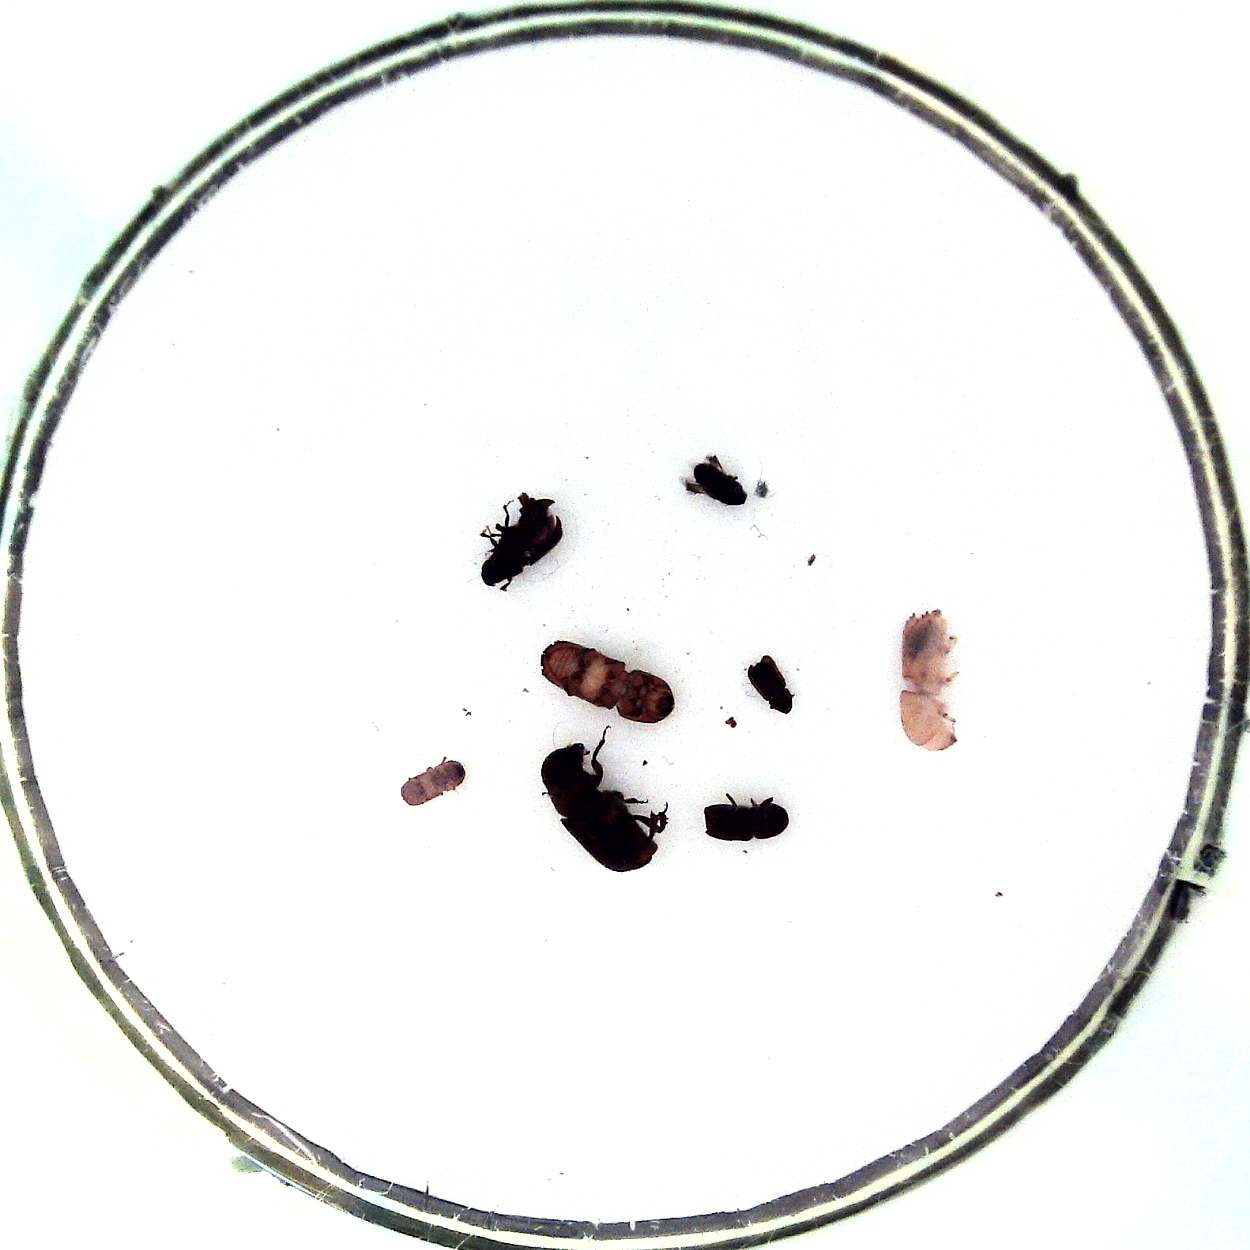Boerner: (540, 640, 674, 723), (900, 610, 958, 750)
Leconte: (541, 742, 659, 872)
acuminatus: (694, 462, 747, 506)
armandi: (480, 493, 563, 588)
coleoptera: (401, 760, 465, 806), (747, 654, 792, 714)
linnaeus: (705, 804, 789, 840)
